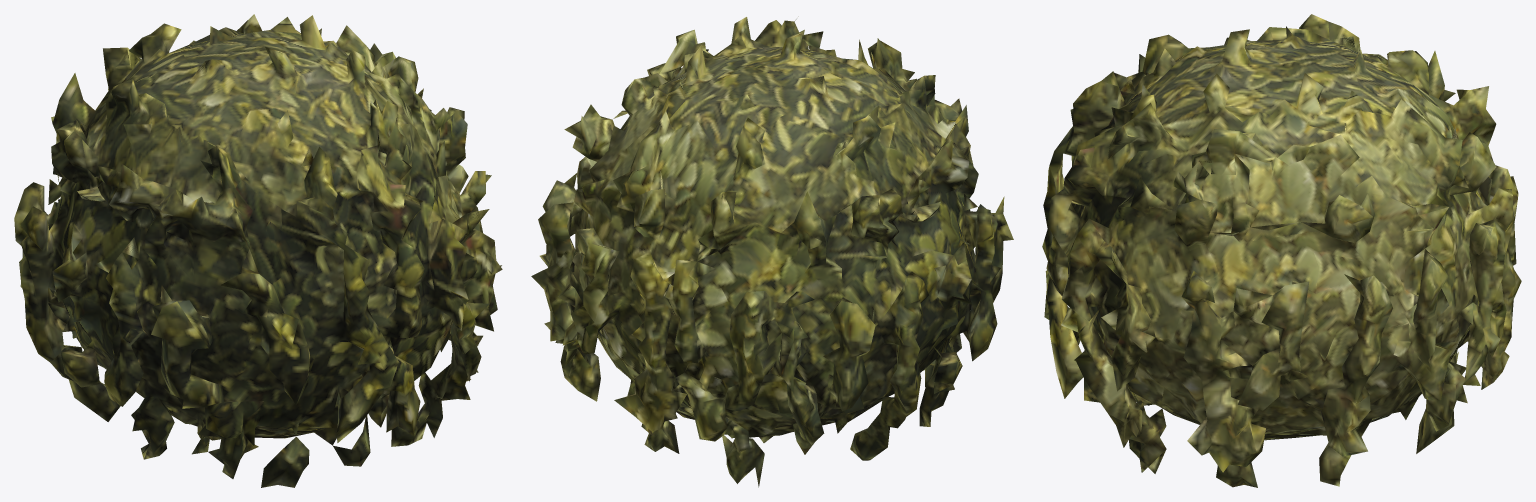
File: bush2.glb
3 views of the same model, side by side, from view 1: azimuth 30°, elevation 25°; view 2: azimuth 150°, elevation 25°; view 3: azimuth 270°, elevation 25° (orthographic). The views are drawn at different scales.
Parts seen in each view (by area): view 1: input; view 2: input; view 3: input.
Boxes of the visible parts, x1=… form: input: x1=14, y1=14, x2=502, y2=487; input: x1=531, y1=16, x2=1013, y2=487; input: x1=1042, y1=14, x2=1521, y2=487.
Bounding box in the file's own units: 0.9518 × 0.8725 × 0.9564.
1 material, 1 textured.
